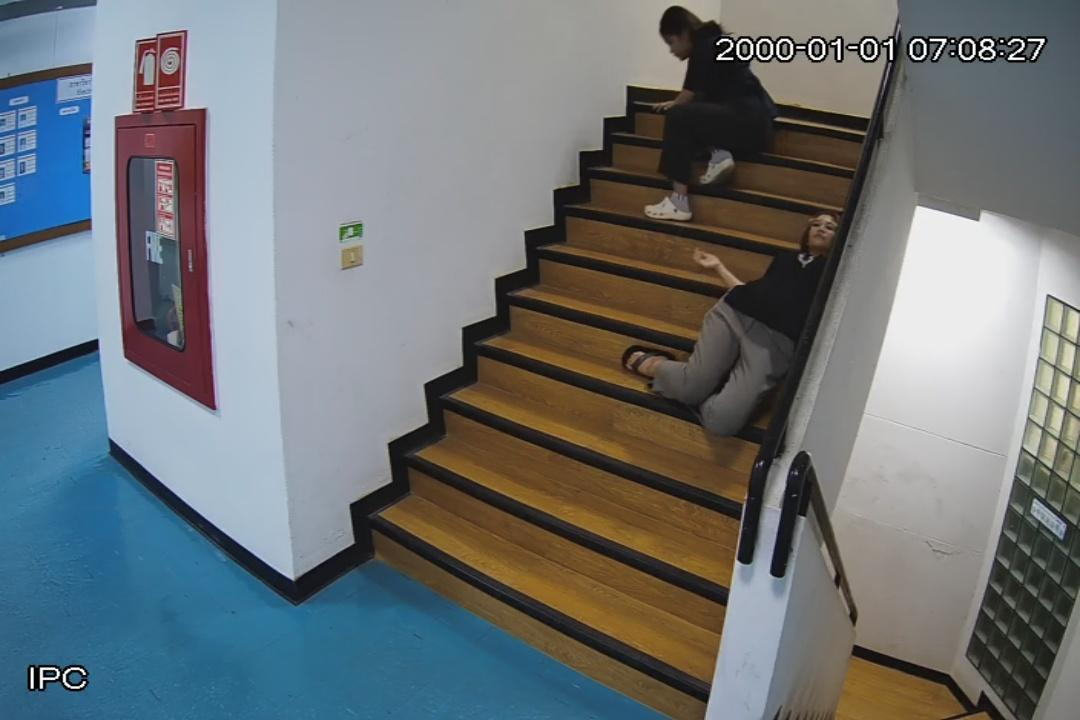fall: (627, 214, 836, 432), (645, 7, 774, 216)
